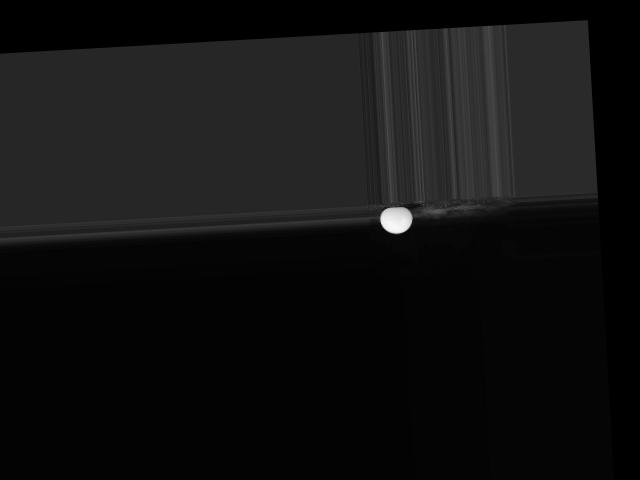egg: (379, 206, 414, 234)
